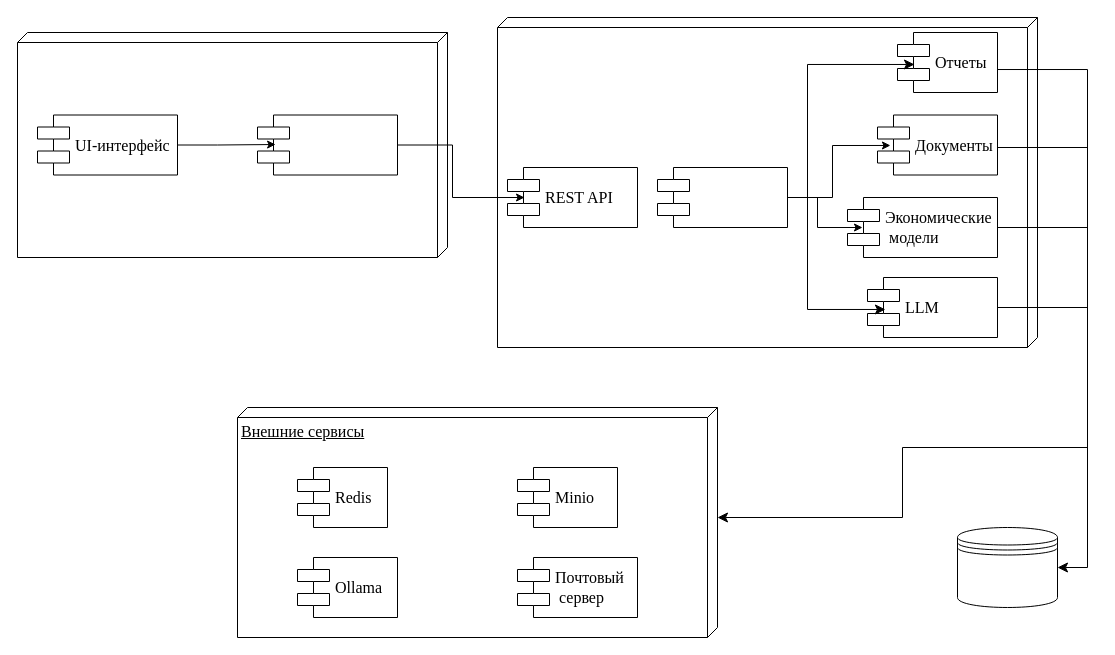
Image size: 1115x655. Some labels were removed from this diagram. Here are the shapes that lost their labels. From the top down, the box of each, then its label:
(16, 32, 448, 258): JavaFX клиент
(256, 114, 398, 175): Сервисы
(656, 166, 788, 228): Авторизация
(496, 16, 1038, 348): Spring Boot сервер
(956, 526, 1058, 608): PostgreSQL
